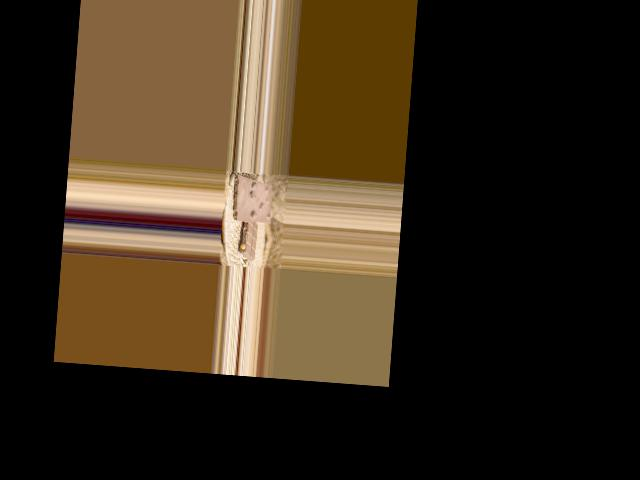chocolate: (231, 174, 274, 226)
